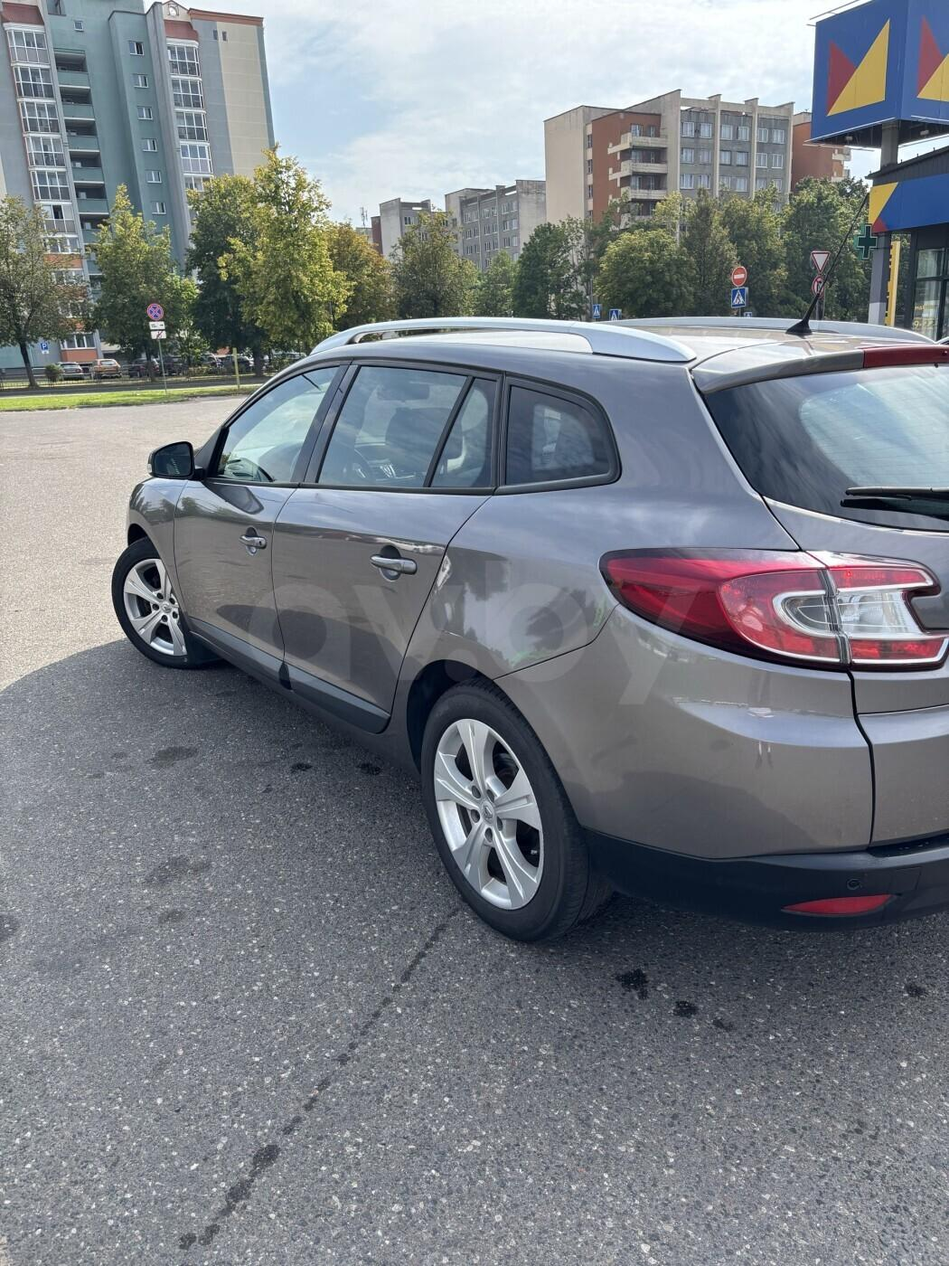Megane_2008-2014: (89, 320, 949, 933)
